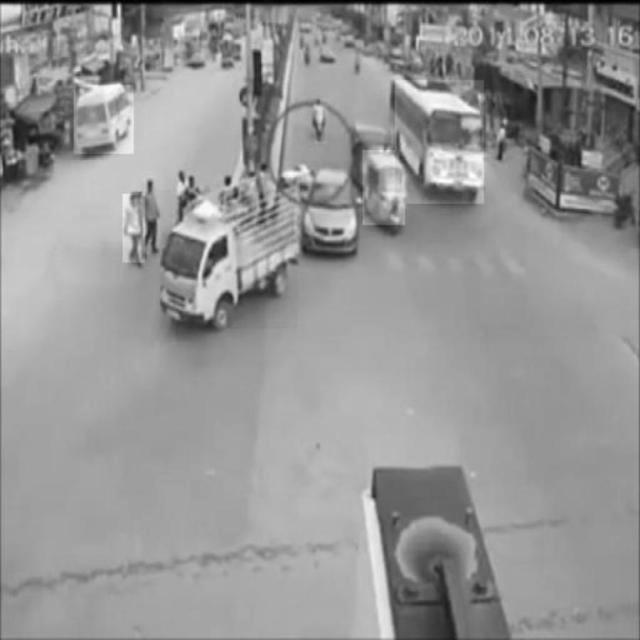person: (124, 194, 146, 262)
vehicle: (160, 190, 298, 328), (396, 80, 484, 204), (305, 162, 359, 260), (74, 85, 134, 153), (362, 151, 406, 225), (314, 99, 328, 144)
